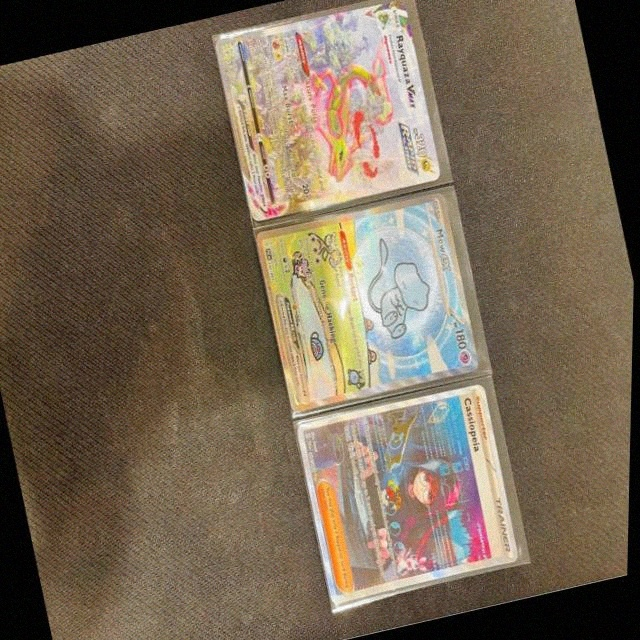card: (214, 0, 441, 222), (298, 384, 521, 605), (256, 192, 479, 412)
